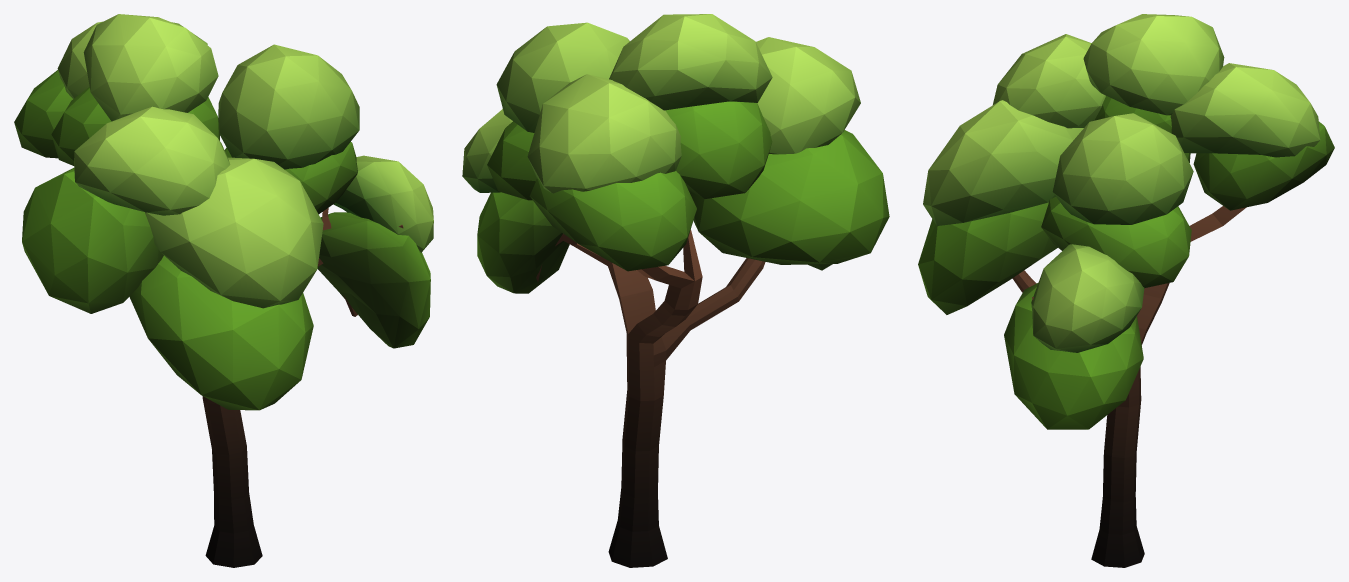
The model's file is tree 1.fbx.
3 renders of one model, left to right at view 1: azimuth 30°, elevation 25°; view 2: azimuth 150°, elevation 25°; view 3: azimuth 270°, elevation 25°, orthographic. The views are drawn at different scales.
Parts seen in each view (by area): view 1: big tree; view 2: big tree; view 3: big tree.
Boxes of the visible parts, box(x1,y1,x2,y2) form: big tree: box(14, 14, 433, 567); big tree: box(462, 14, 889, 567); big tree: box(918, 14, 1334, 567).
Bounding box in the file's own units: 21.24 × 28.75 × 21.26.
Materials: 1 (1 with a texture image).
